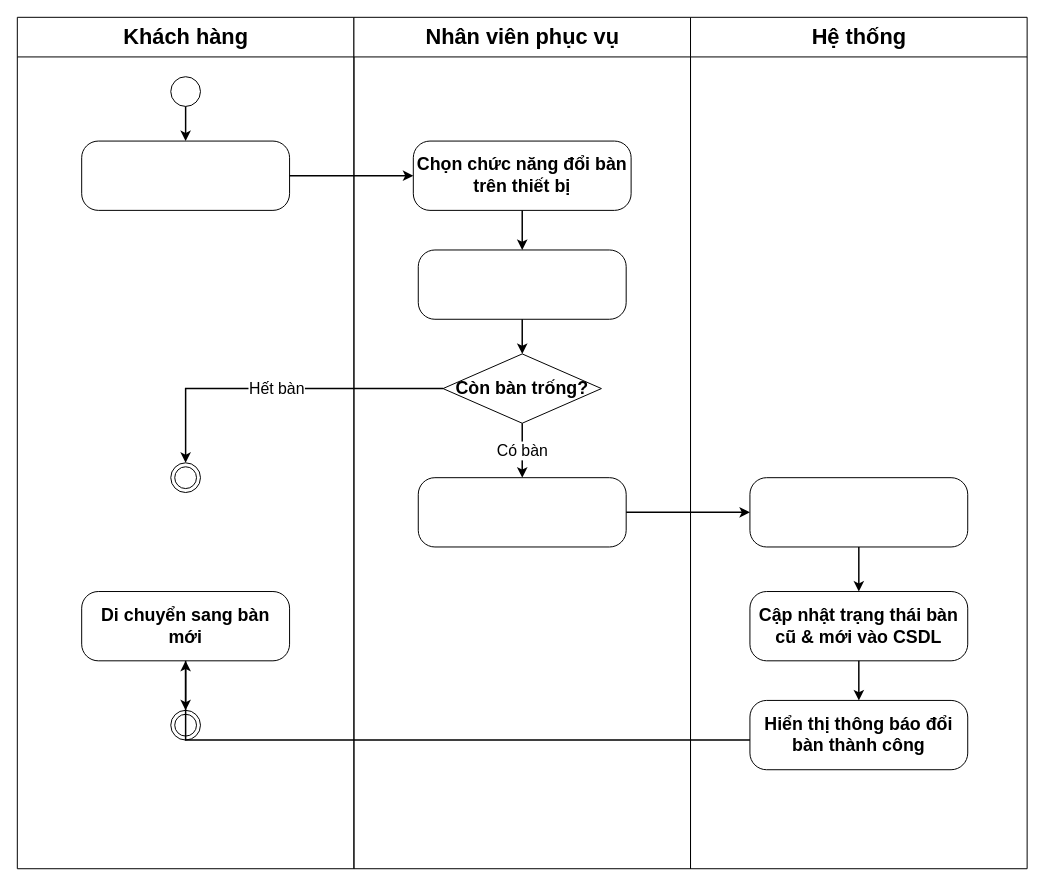
Some shapes in this 1044 by 886 pixel diagram are drawn without their labels. Here are the shapes that lost their labels. From the top down, the centre of each, then its label:
At pixel 185 175: "Yêu cầu đổi bàn".
At pixel 521 284: "Kiểm tra danh sách bàn trống".
At pixel 521 512: "Chọn bàn mới & bấm xác nhận".
At pixel 858 512: "Chuyển đơn gọi món sang bàn mới trong CSDL".
